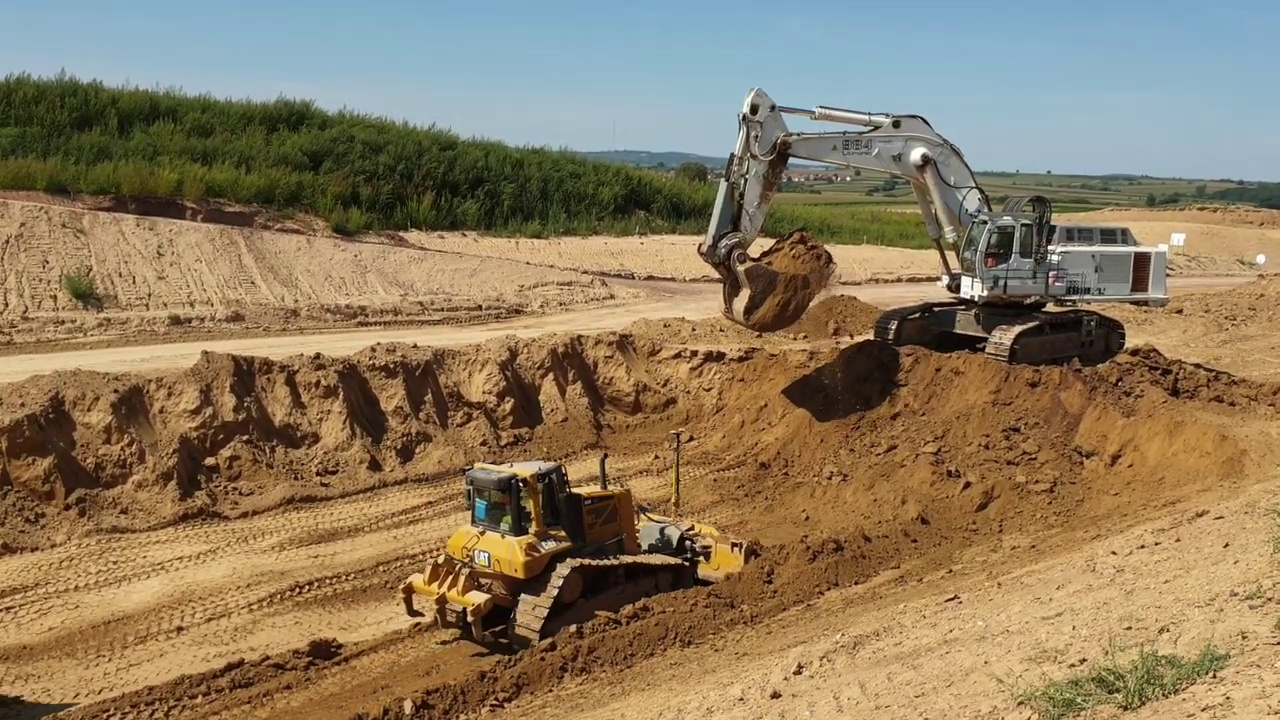bulldozer: (394, 428, 777, 652)
excavator: (692, 81, 1178, 372)
